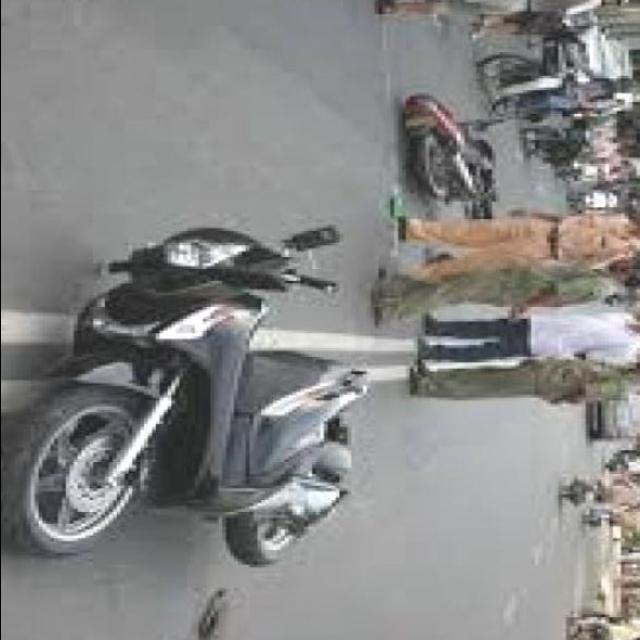accident: (0, 229, 369, 575), (387, 103, 525, 232)
